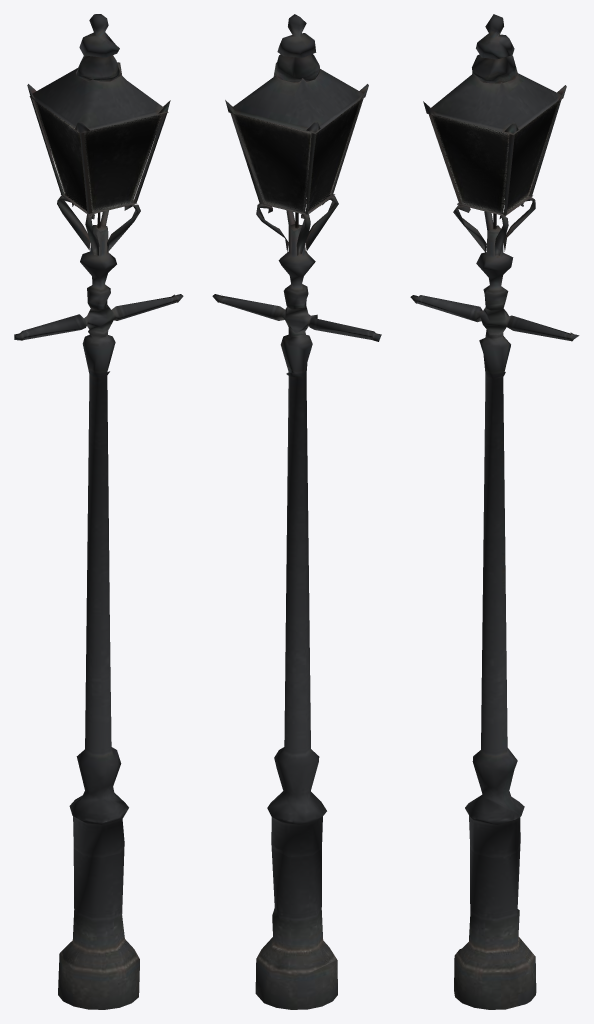
The model's file is street_lamp_01.glb.
The picture shows the model from 3 angles, left to right: view 1: azimuth 30°, elevation 25°; view 2: azimuth 150°, elevation 25°; view 3: azimuth 330°, elevation 25°; orthographic projection.
Visible parts, largest first — view 1: street_lamp_01; view 2: street_lamp_01; view 3: street_lamp_01.
Boxes of the visible parts, left/top/right/bottom form: street_lamp_01: left=14, top=14, right=183, bottom=1009; street_lamp_01: left=212, top=14, right=381, bottom=1009; street_lamp_01: left=410, top=14, right=579, bottom=1009.
Size of the model in its own units: 0.6892 by 3.87 by 0.3844.
2 materials, 2 textured.
